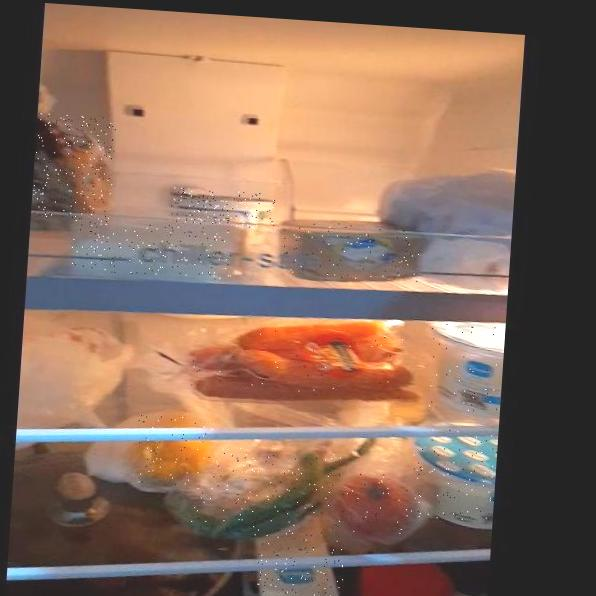bread: (31, 113, 117, 221)
butter: (279, 220, 422, 283)
carrot: (184, 323, 415, 403)
cheese: (70, 219, 237, 281)
green chilies: (188, 445, 346, 543)
lemon: (134, 414, 213, 487)
milk: (251, 542, 346, 596)
tomato: (330, 471, 420, 537)
yoghurt: (409, 427, 498, 525), (425, 321, 505, 414), (168, 187, 276, 229)
